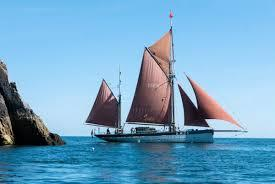Ship: (86, 26, 248, 144)
